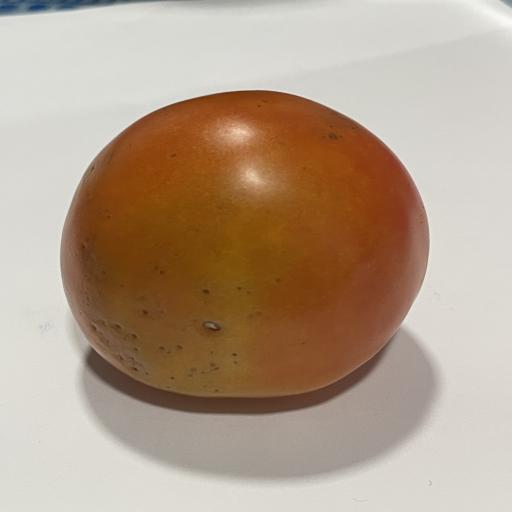unripe: (61, 91, 429, 398)
